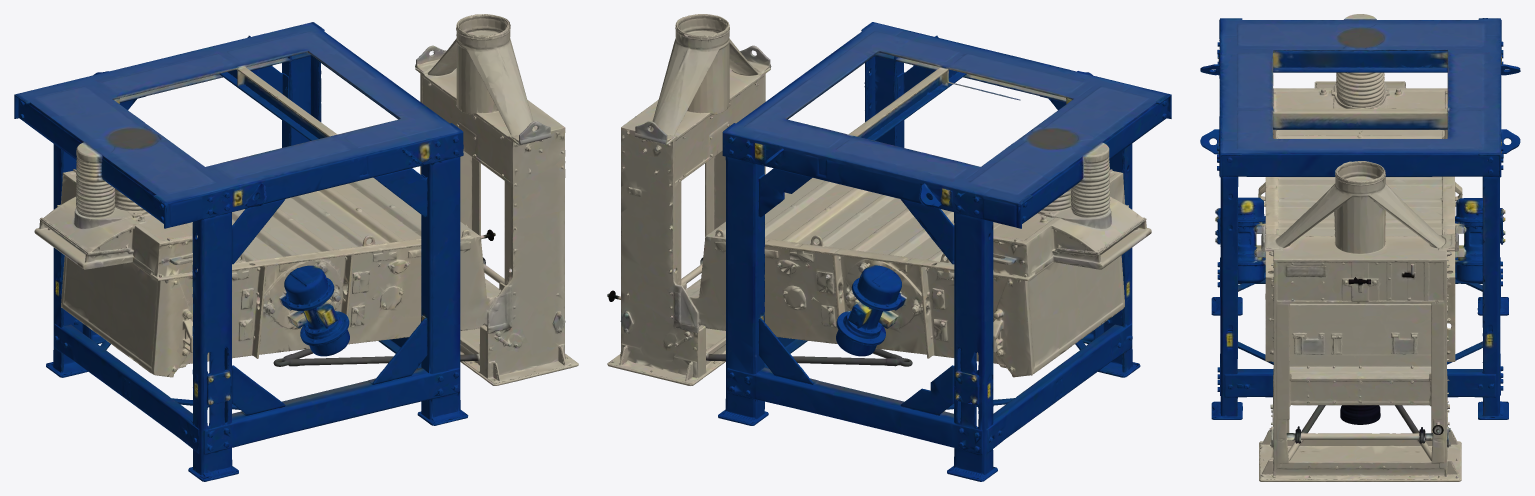
The model's file is jcm_10122.glb.
3 renders of one model, left to right at view 1: azimuth 30°, elevation 25°; view 2: azimuth 150°, elevation 25°; view 3: azimuth 270°, elevation 25°, orthographic. The views are drawn at different scales.
Visible parts, largest first — view 1: tripo_node_48064569-f031-4c13-8ad9-666cea65b004; view 2: tripo_node_48064569-f031-4c13-8ad9-666cea65b004; view 3: tripo_node_48064569-f031-4c13-8ad9-666cea65b004.
Part boxes in pixels (left/top/right/bottom): tripo_node_48064569-f031-4c13-8ad9-666cea65b004: left=14, top=14, right=578, bottom=481; tripo_node_48064569-f031-4c13-8ad9-666cea65b004: left=607, top=14, right=1171, bottom=481; tripo_node_48064569-f031-4c13-8ad9-666cea65b004: left=1200, top=14, right=1520, bottom=481.
Bounding box in the file's own units: 0.9841 × 0.6147 × 0.6106.
Materials: 1 (1 with a texture image).
